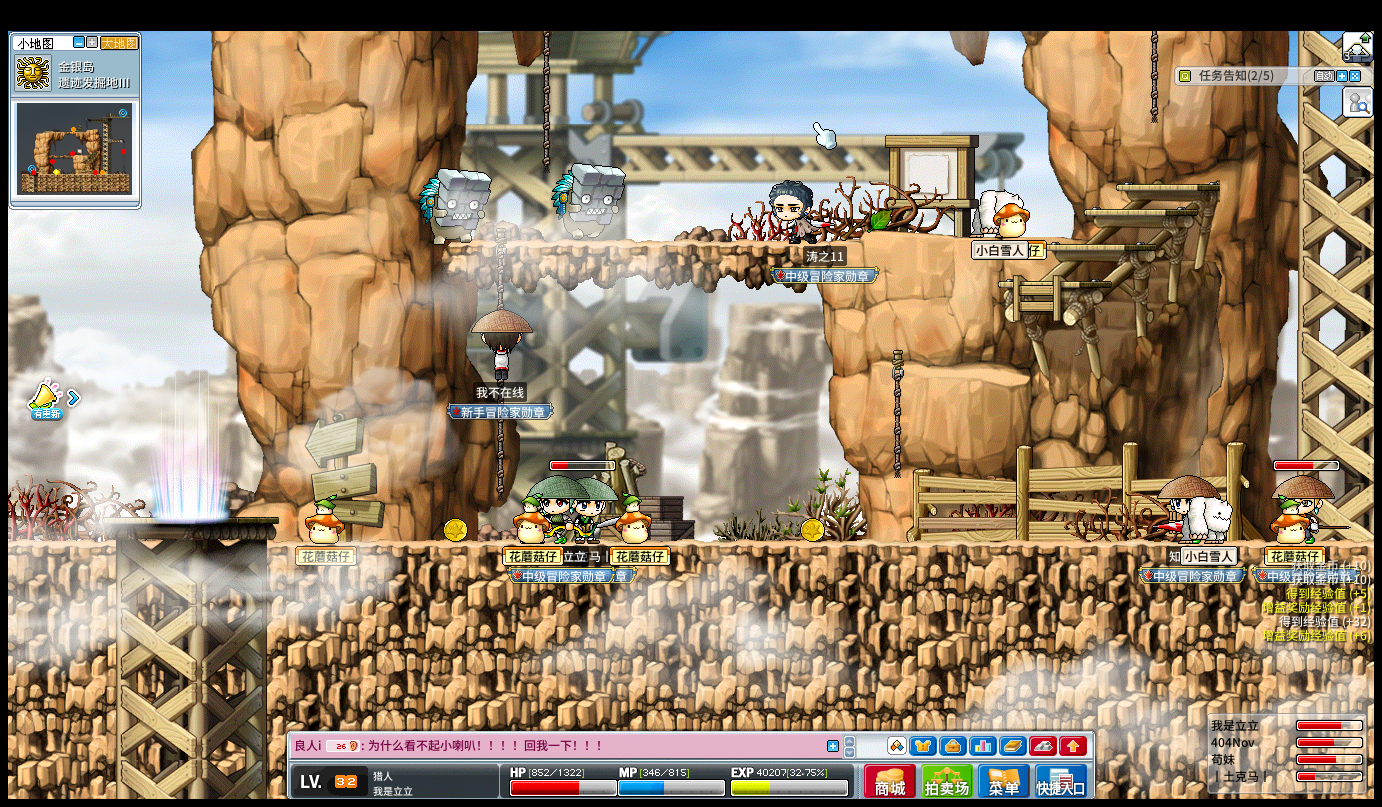floor: (268, 537, 1373, 549), (460, 238, 833, 250), (924, 364, 1031, 385), (8, 538, 119, 550), (102, 518, 277, 525), (1079, 207, 1192, 216), (996, 280, 1108, 289), (1047, 243, 1158, 250), (1116, 184, 1220, 191), (1115, 183, 1218, 190)
monster: (550, 162, 627, 241), (416, 168, 491, 244)
rope: (889, 350, 903, 480), (543, 30, 551, 177), (492, 424, 505, 500), (1148, 31, 1157, 122), (496, 424, 503, 498)
